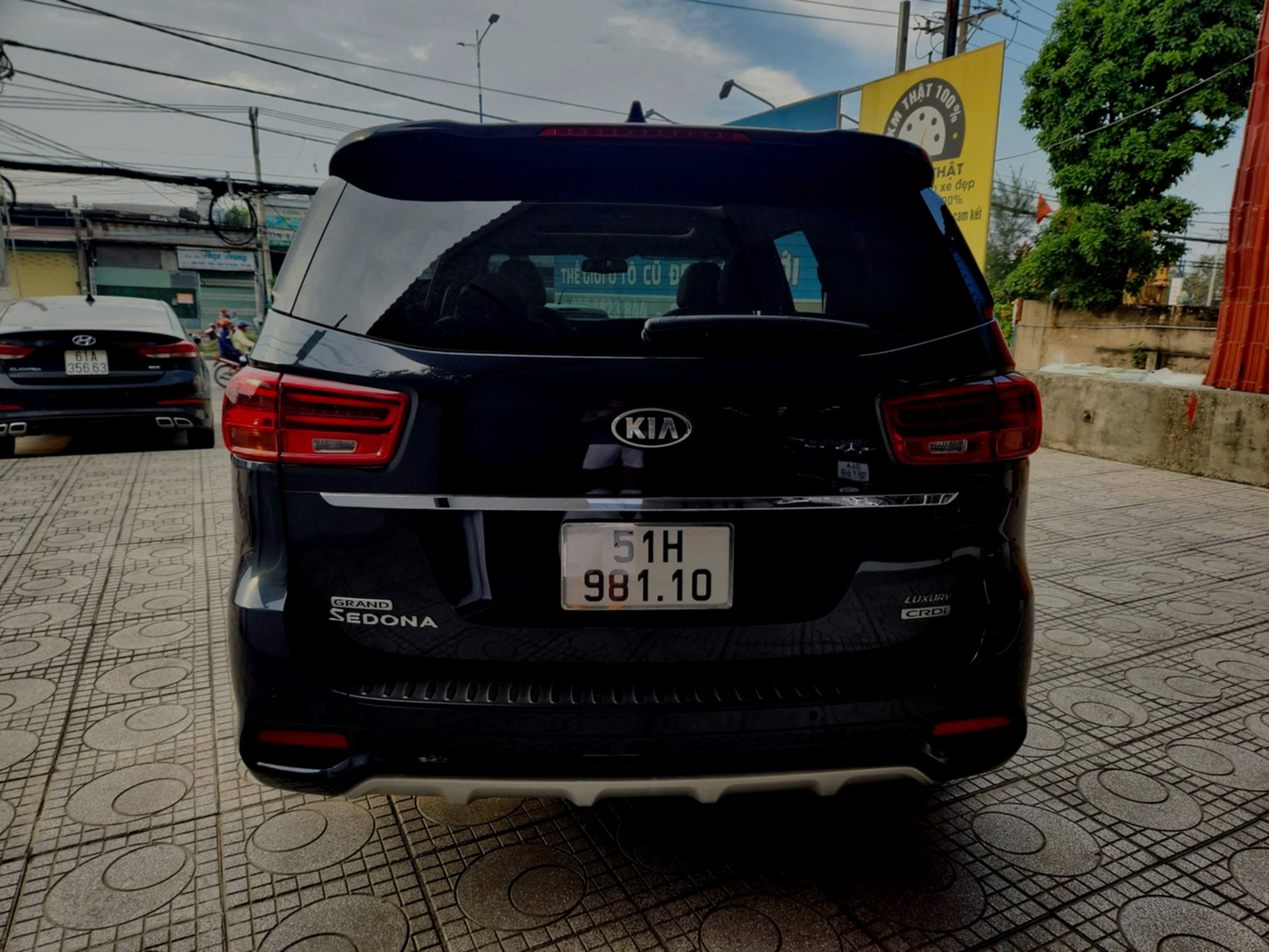Bien-so: (543, 518, 733, 624), (61, 317, 113, 353)
